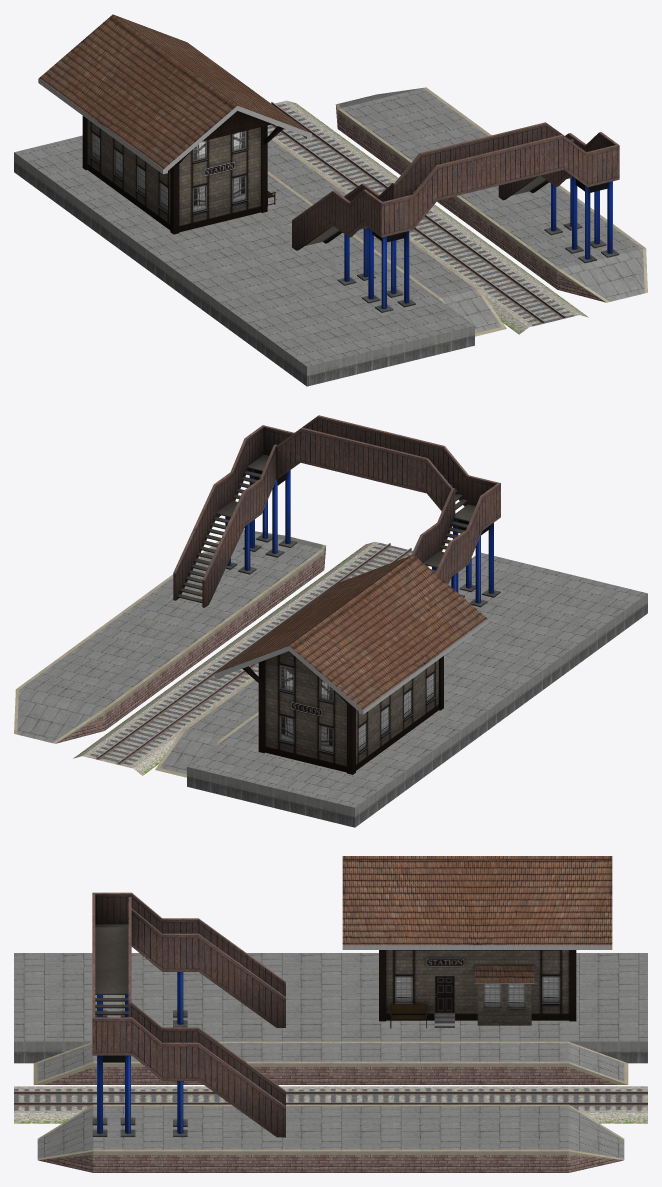
Rendered from Station4.fbx.
The picture shows the model from 3 angles, top to bottom: view 1: azimuth 30°, elevation 25°; view 2: azimuth 150°, elevation 25°; view 3: azimuth 270°, elevation 25°; orthographic projection. The views are drawn at different scales.
Parts seen in each view (by area): view 1: U3DMesh; view 2: U3DMesh; view 3: U3DMesh.
Boxes of the visible parts, x1,y1,x2,y2 form: U3DMesh: [14, 14, 647, 386]; U3DMesh: [14, 415, 647, 827]; U3DMesh: [14, 856, 647, 1172].
Bounding box in the file's own units: 23.7 × 9.23 × 32.
